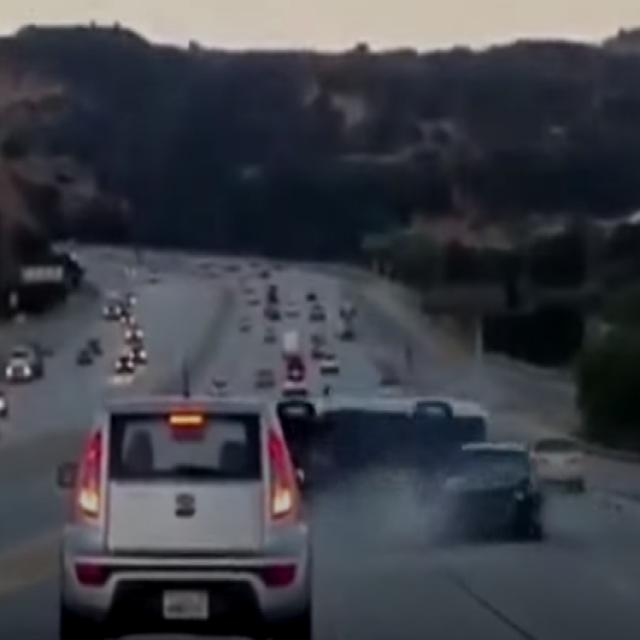accident: (310, 402, 544, 544)
